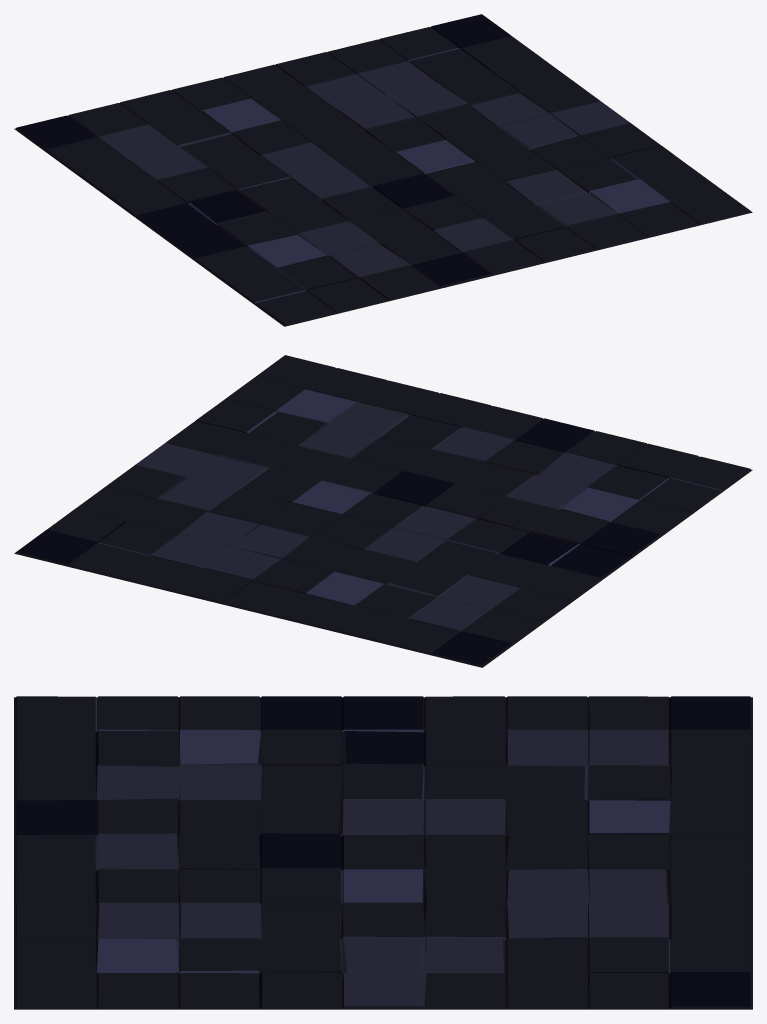
Rendered from floor 5.fbx.
3 renders of one model, top to bottom at view 1: azimuth 30°, elevation 25°; view 2: azimuth 150°, elevation 25°; view 3: azimuth 270°, elevation 25°, orthographic. The views are drawn at different scales.
Visible parts, largest first — view 1: floor5; view 2: floor5; view 3: floor5.
Part boxes in pixels (x1,y1,x2,y2): floor5: (14,14,752,326); floor5: (14,355,752,667); floor5: (14,696,752,1009).
Size of the model in its own units: 600 by 3.53 by 600.
